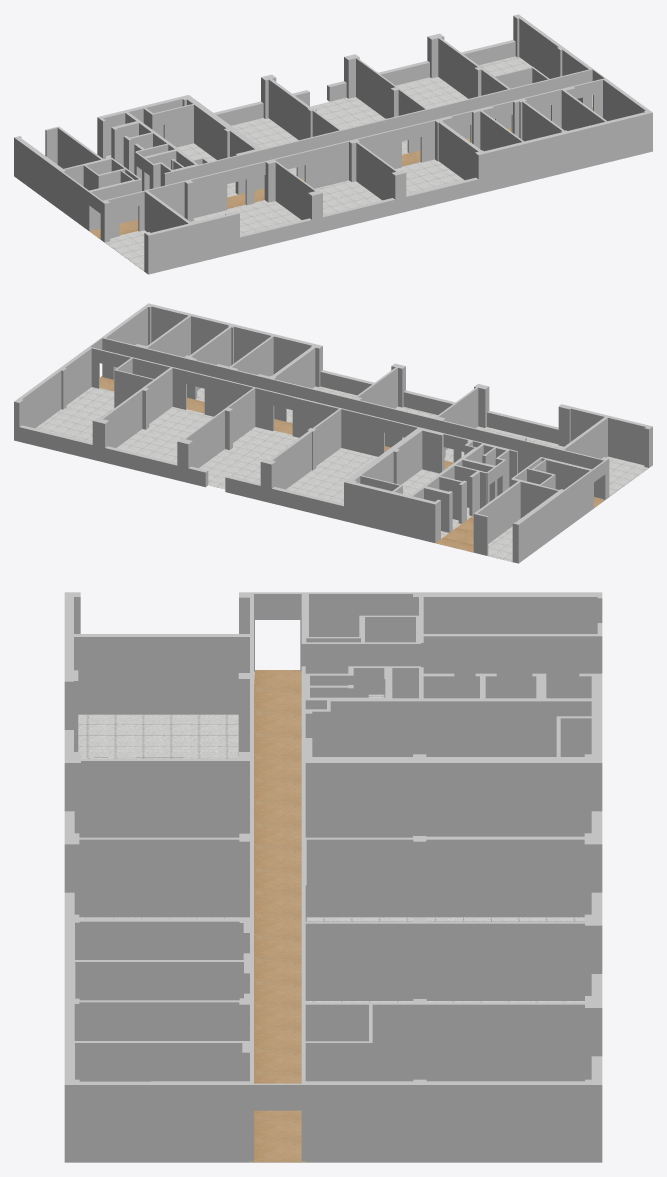
Rendered from walls_floor_UAMT.dae.
3 renders of one model, top to bottom at view 1: azimuth 30°, elevation 25°; view 2: azimuth 150°, elevation 25°; view 3: azimuth 270°, elevation 25°, orthographic. The views are drawn at different scales.
Visible parts, largest first — view 1: walls_UAMT; view 2: walls_UAMT; view 3: walls_UAMT.
Part boxes in pixels (x1,y1,x2,y2): walls_UAMT: (14, 14, 652, 274); walls_UAMT: (14, 303, 652, 563); walls_UAMT: (64, 592, 602, 1162).
Size of the model in its own units: 43.73 by 20.17 by 3.22.
3 materials, 2 textured.
